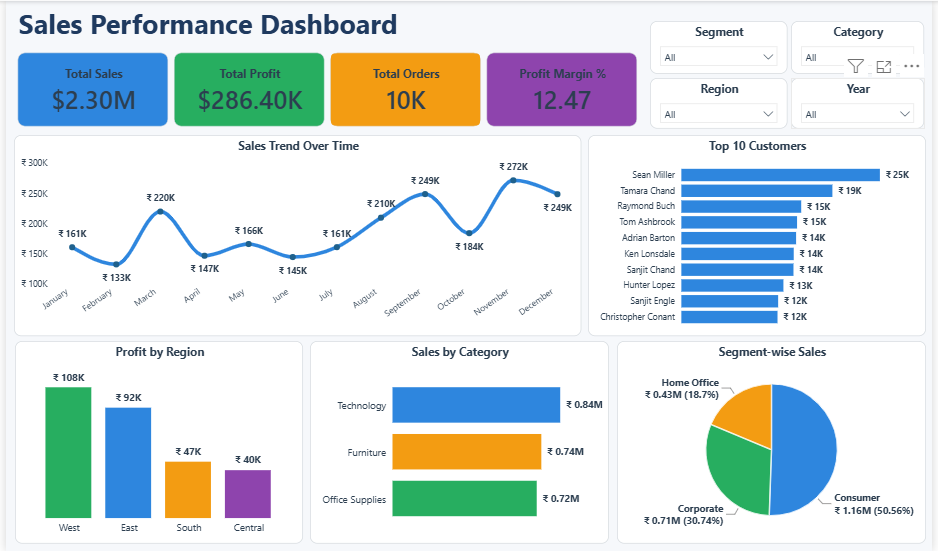

The dashboard page shown, as its layout file describes it:
{"tool":"powerbi","page":{"name":"Page 1","canvas":[1280,760],"ordinal":0},"visuals":[{"type":"barChart","title":"Sales by Category","fields":{"Category":["Sample - Superstore.Category"],"Y":["Sum(Sample - Superstore.Sales)"]},"box":[419.5,469.7,413.4,279.7],"z":0},{"type":"columnChart","title":"Profit by Region","fields":{"Y":["Sum(Sample - Superstore.Profit)"],"Category":["Sample - Superstore.Region"]},"box":[12.2,469.7,398.2,279.7],"z":1000},{"type":"lineChart","title":"Sales Trend Over Time","fields":{"Category":["Sample - Superstore.Order Date.Variation.Date Hierarchy.Month"],"Y":["Sum(Sample - Superstore.Sales)"]},"box":[10.6,185.4,784.3,278.2],"z":2000},{"type":"clusteredBarChart","title":"Top 10 Customers","fields":{"Category":["Sample - Superstore.Customer Name"],"Y":["Sum(Sample - Superstore.Sales)"]},"box":[804.1,185.4,466.6,278.2],"z":3000},{"type":"pieChart","title":"Segment-wise Sales","fields":{"Category":["Sample - Superstore.Segment"],"Y":["Sum(Sample - Superstore.Sales)"]},"box":[843.6,469.7,427.1,279.7],"z":4000},{"type":"cardVisual","fields":{"Data":["Sample - Superstore.Total Sales","Sample - Superstore.Total Profit","Sample - Superstore.Total Orders","Superstore.Profit Margin %"]},"box":[10.6,66.9,866.4,112.5],"z":5000},{"type":"textbox","box":[12.2,0,570,65.4],"z":6000},{"type":"slicer","title":"Segment","fields":{"Values":["Superstore.Segment"]},"box":[889.2,27.4,190,73],"z":7000},{"type":"slicer","title":"Region","fields":{"Values":["Superstore.Region"]},"box":[889.2,106.4,190,69.9],"z":8000},{"type":"slicer","title":"Category","fields":{"Values":["Superstore.Category"]},"box":[1085.3,27.4,183.9,73],"z":9000},{"type":"slicer","title":"Year","fields":{"Values":["Superstore.Year"]},"box":[1085.3,106.4,183.9,69.9],"z":10000}]}

Visuals, with their boxes in screenshot pixels (x1, y1, x2, y2), scaled from the page's 1280x760 canvas onto the 938x551 screenshot:
"Sales by Category" barChart: (x1=307, y1=341, x2=610, y2=543)
"Profit by Region" columnChart: (x1=9, y1=341, x2=301, y2=543)
"Sales Trend Over Time" lineChart: (x1=8, y1=134, x2=583, y2=336)
"Top 10 Customers" clusteredBarChart: (x1=589, y1=134, x2=931, y2=336)
"Segment-wise Sales" pieChart: (x1=618, y1=341, x2=931, y2=543)
cardVisual - Sample - Superstore.Total Sales x Sample - Superstore.Total Profit: (x1=8, y1=49, x2=643, y2=130)
textbox: (x1=9, y1=0, x2=427, y2=47)
"Segment" slicer: (x1=652, y1=20, x2=791, y2=73)
"Region" slicer: (x1=652, y1=77, x2=791, y2=128)
"Category" slicer: (x1=795, y1=20, x2=930, y2=73)
"Year" slicer: (x1=795, y1=77, x2=930, y2=128)
